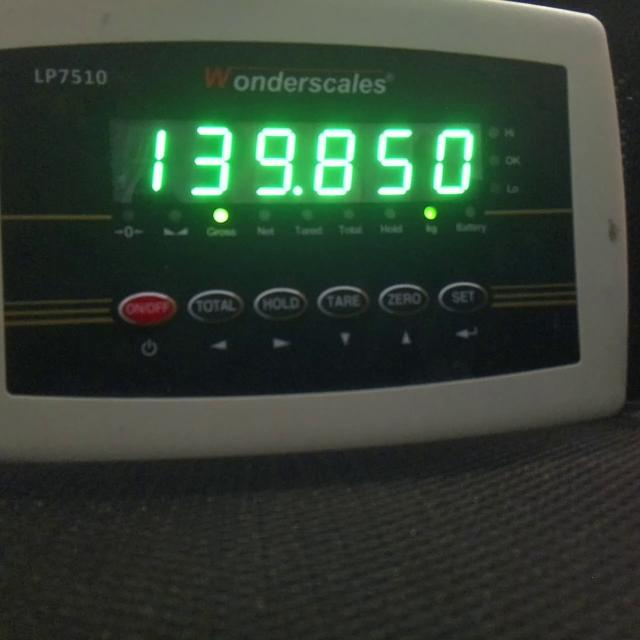.: (292, 186, 302, 196)
0: (430, 124, 479, 198)
1: (150, 129, 167, 192)
3: (190, 125, 232, 196)
5: (374, 127, 414, 195)
8: (313, 127, 355, 195)
9: (251, 125, 295, 198)
